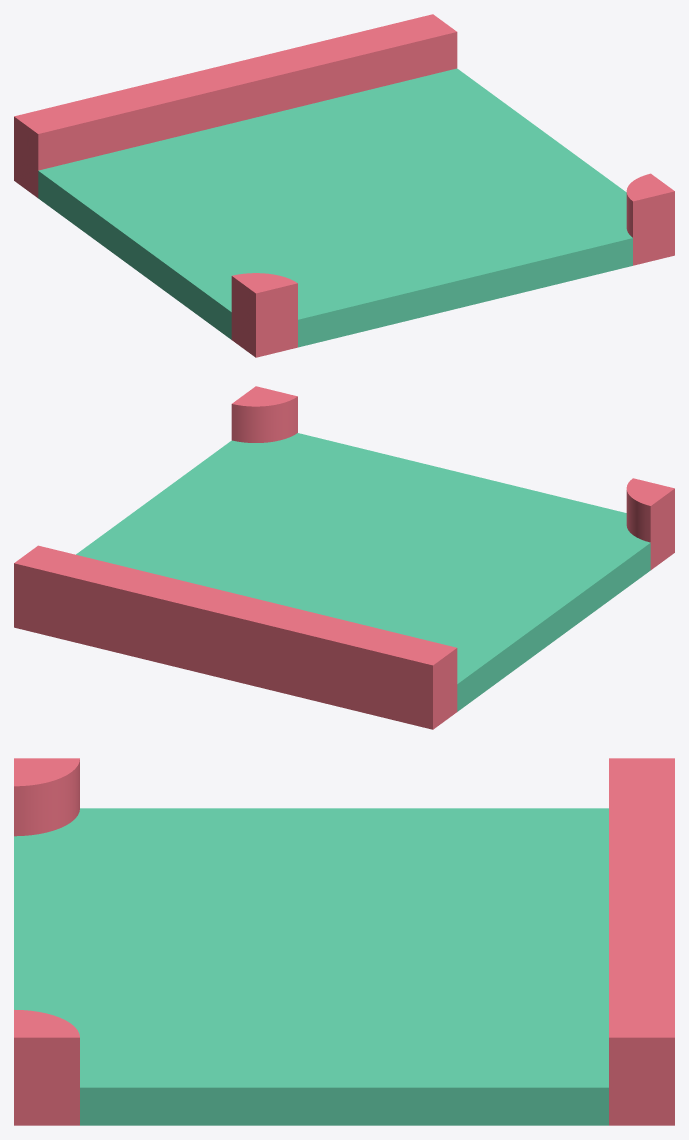
Rendered from splitT.glb.
The picture shows the model from 3 angles, top to bottom: view 1: azimuth 30°, elevation 25°; view 2: azimuth 150°, elevation 25°; view 3: azimuth 270°, elevation 25°; orthographic projection. The views are drawn at different scales.
Visible parts, largest first — view 1: splitT; view 2: splitT; view 3: splitT.
Part boxes in pixels (<box>): splitT: <box>14,14,674,357</box>; splitT: <box>14,386,674,729</box>; splitT: <box>14,758,674,1125</box>.
Size of the model in its own units: 0.9999 by 0.1467 by 0.9999.
